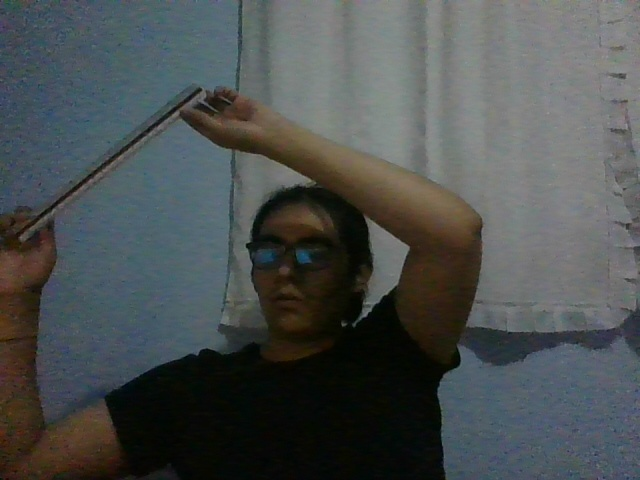regla: (8, 82, 208, 243)
